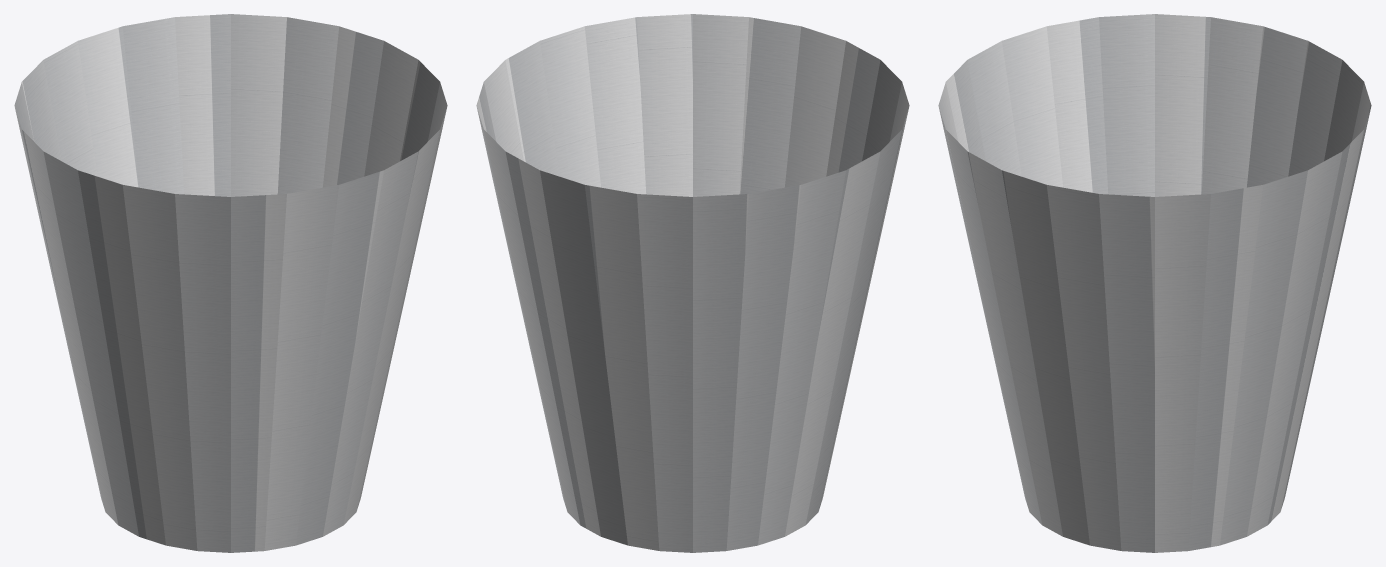
The picture shows the model from 3 angles, left to right: view 1: azimuth 30°, elevation 25°; view 2: azimuth 150°, elevation 25°; view 3: azimuth 270°, elevation 25°; orthographic projection.
Visible parts, largest first — view 1: mesh1_mesh1-geometry; view 2: mesh1_mesh1-geometry; view 3: mesh1_mesh1-geometry.
Part boxes in pixels (left/top/right/bottom): mesh1_mesh1-geometry: left=14, top=14, right=447, bottom=552; mesh1_mesh1-geometry: left=476, top=14, right=909, bottom=552; mesh1_mesh1-geometry: left=938, top=14, right=1371, bottom=552.
Size of the model in its own units: 0.5774 by 0.5774 by 0.5774.
